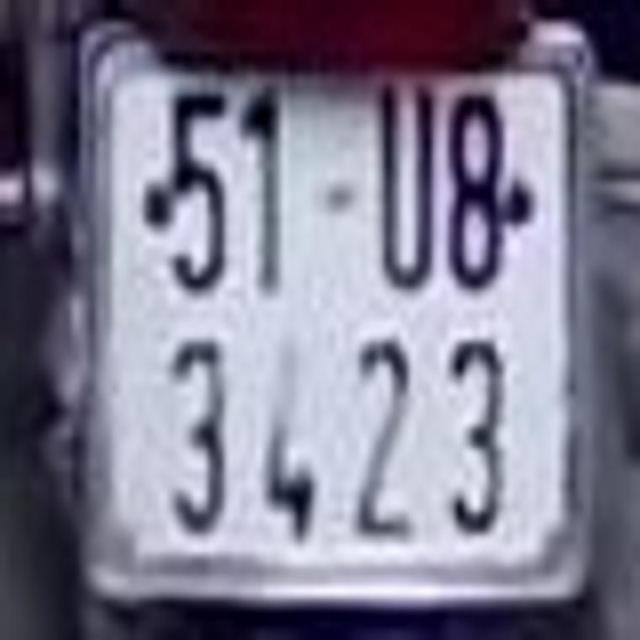1: (233, 90, 290, 304)
2: (357, 339, 413, 536)
3: (165, 341, 235, 534), (449, 341, 503, 528)
4: (267, 344, 315, 541)
5: (170, 93, 228, 290)
8: (450, 99, 498, 284)
U: (378, 86, 432, 286)
